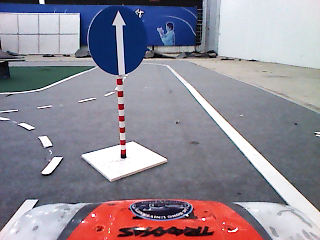straight: (85, 4, 152, 79)
